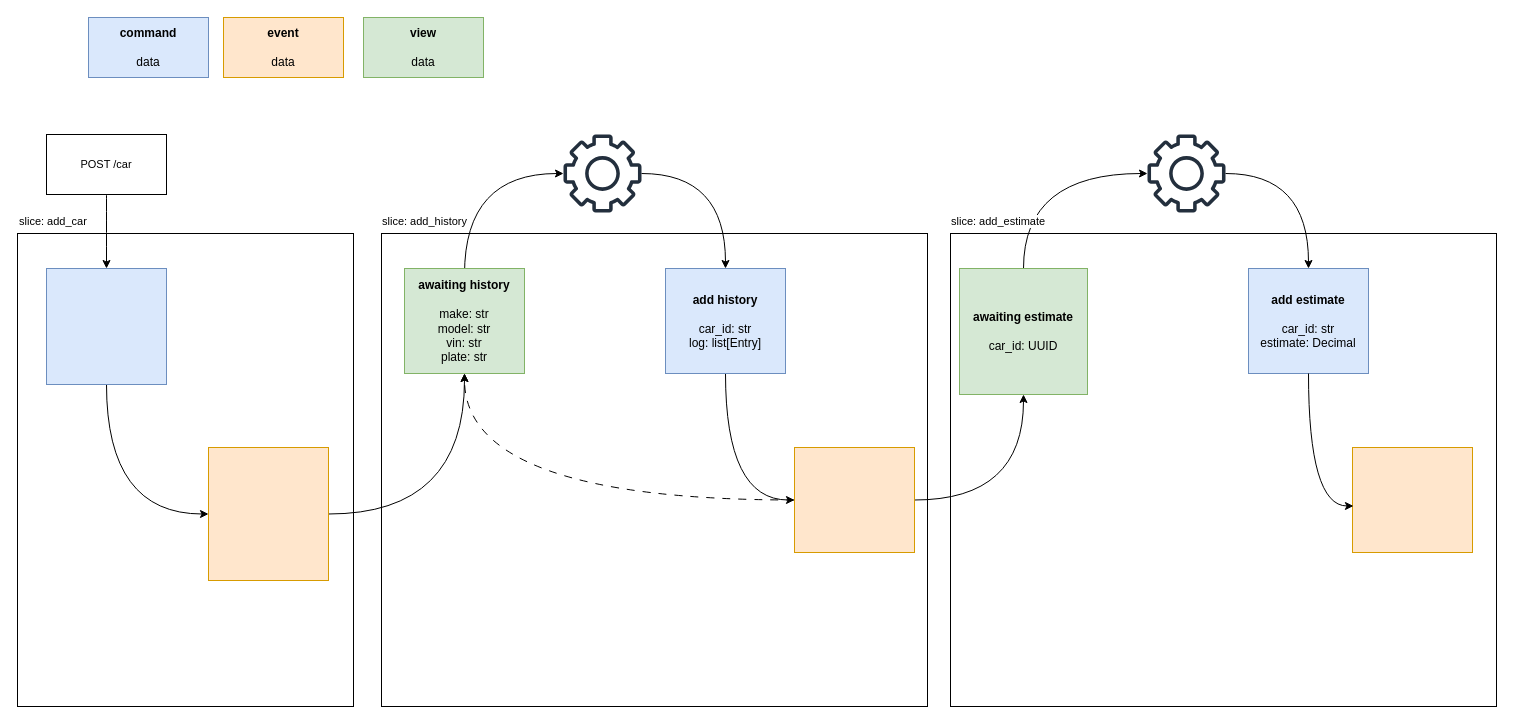
The diagram is 1514 pixels wide and 724 high, and some of its shapes have lost their labels. The shapes that lost their labels are listed below. From the top down, each one's centre as x and y in pixels, then its label:
At (106,326): "add car make: str model: str plate: str vin: str year: int".
At (268,513): "CarAdded make: str model: str plate: str vin: str year: int".
At (854,499): "HistoryAdded log: list[Entry]".
At (1412,499): "EstimateAdded estimate: Decimal".
